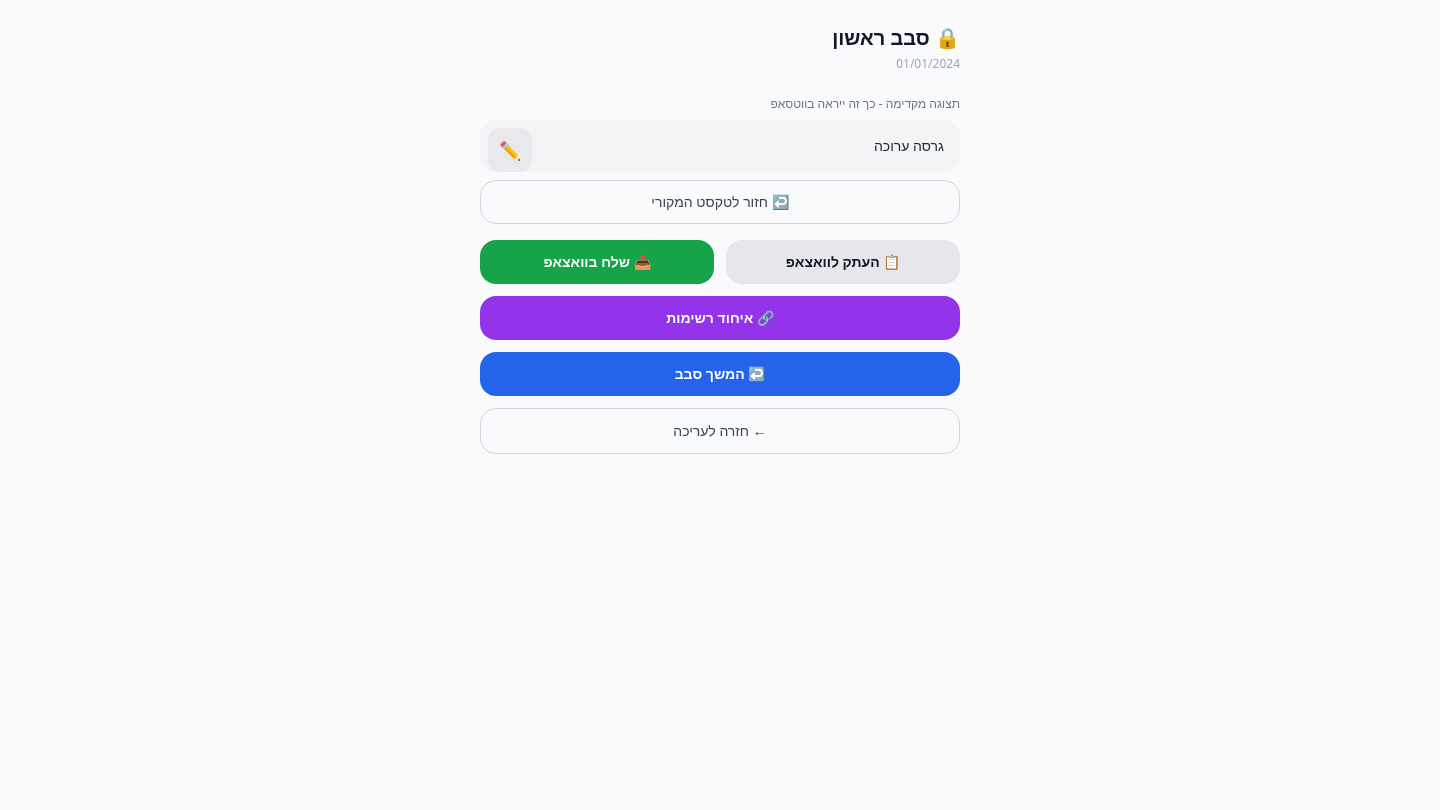
Test: ResultScreen — back navigation guard › clicking "← חזרה לעריכה" with custom text shows guard modal
The width and height of the screenshot is (1440, 810).
Click the button "← חזרה לעריכה".
click(720, 431)  # box x1=480 y1=408 x2=960 y2=454
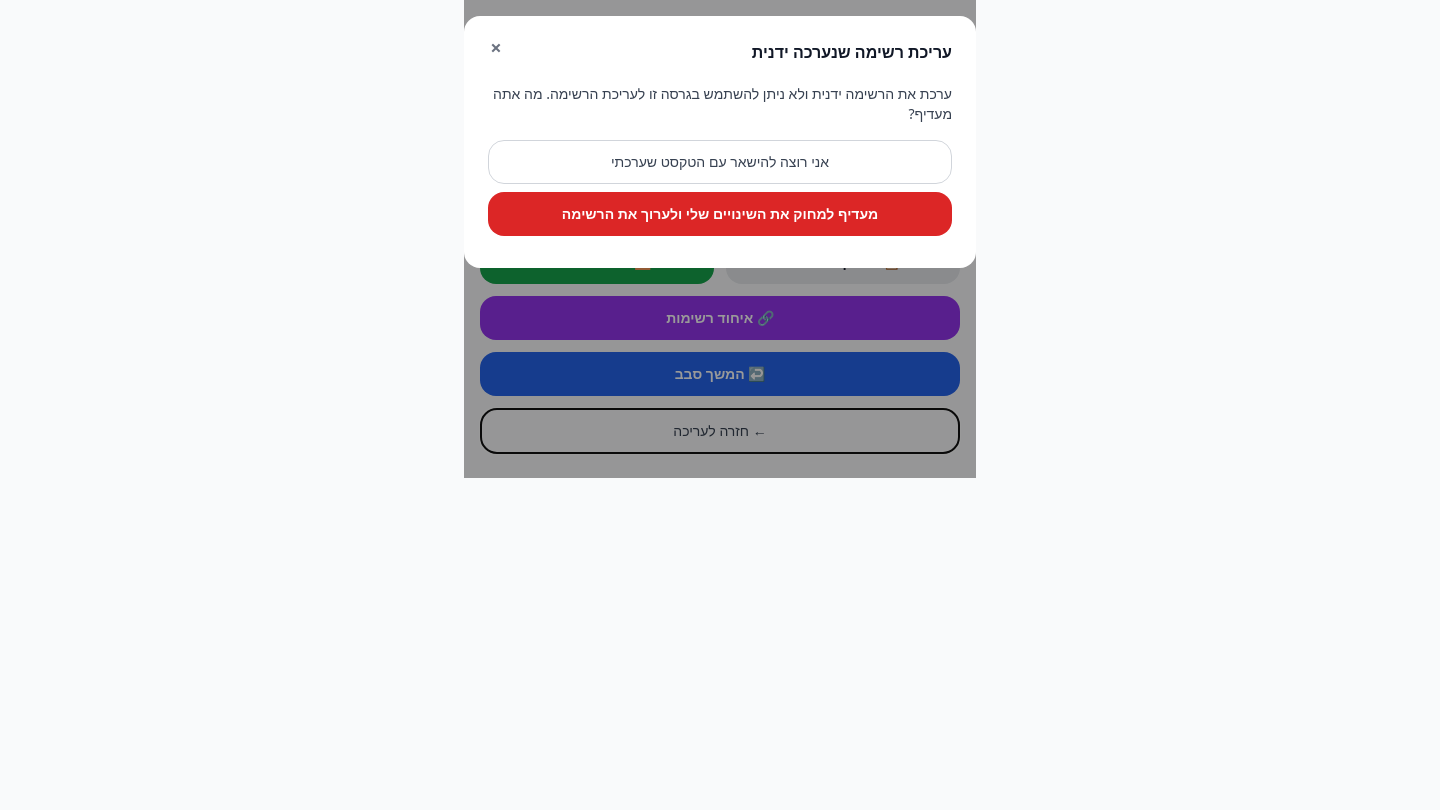
Result: the dialog is shown at x1=464 y1=16 x2=976 y2=268
Result: the dialog shows "עריכת רשימה שנערכה ידנית" at x1=752 y1=41 x2=952 y2=63
